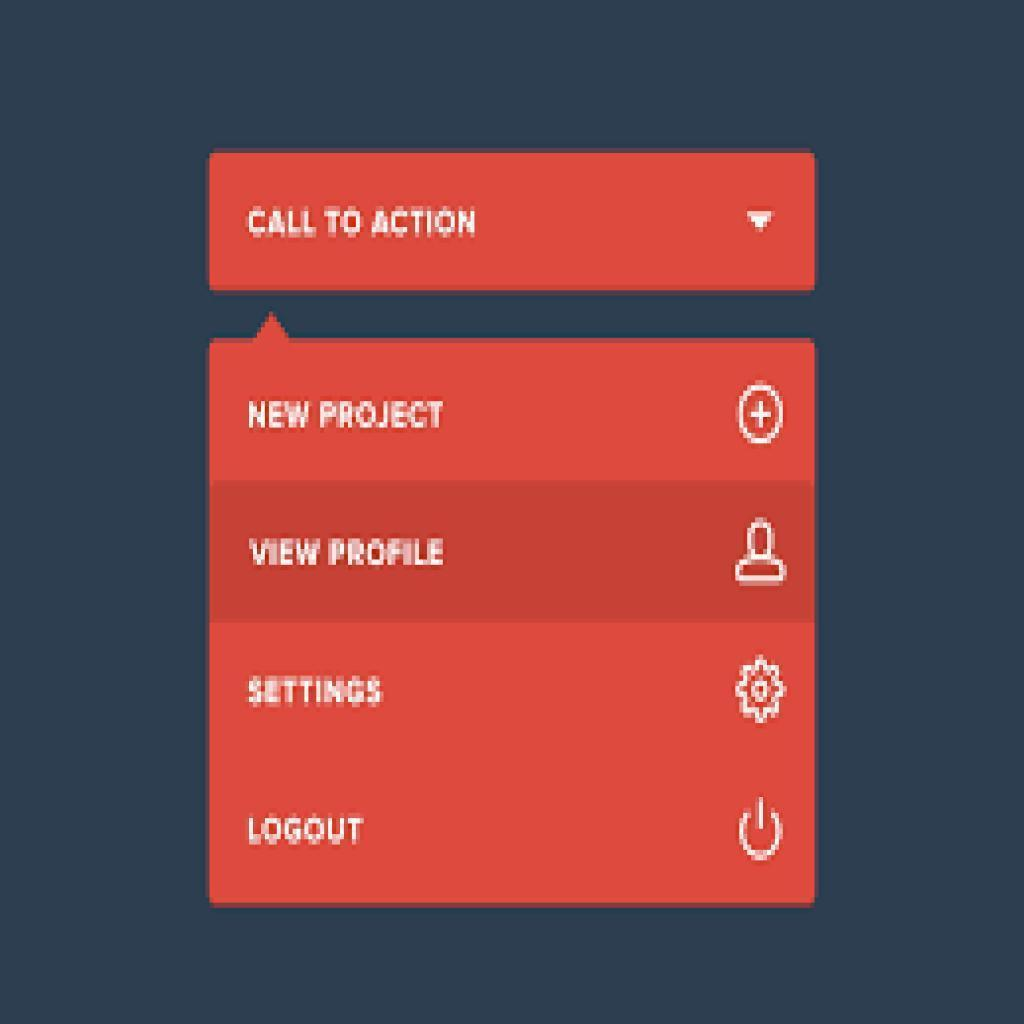dropdown: (213, 158, 812, 291)
icon: (728, 376, 793, 459), (733, 514, 796, 596), (728, 792, 791, 874), (731, 657, 794, 734)
label: (244, 388, 448, 442), (246, 533, 451, 580), (246, 666, 378, 716), (241, 810, 369, 847)
